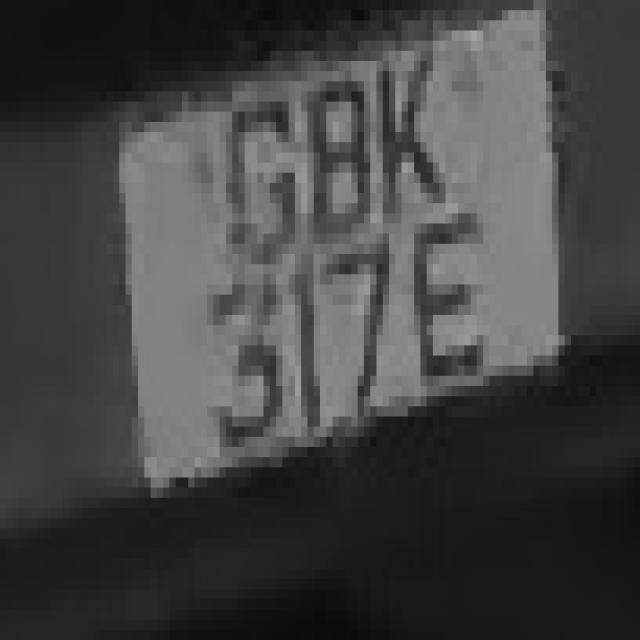1: (282, 254, 332, 467)
3: (201, 254, 295, 467)
7: (326, 213, 408, 447)
B: (295, 71, 383, 244)
E: (402, 203, 508, 386)
G: (201, 51, 307, 264)
K: (364, 20, 445, 234)
